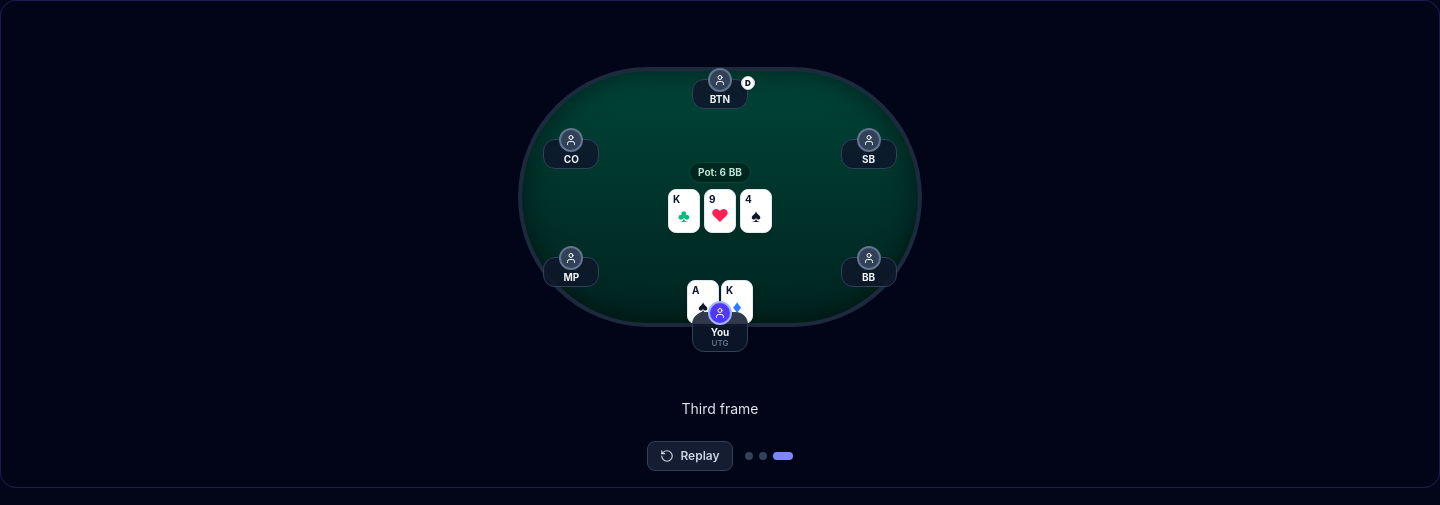
Test: TableSequence › stops on the last frame and offers a replay
This screenshot has width=1440, height=505.
Expected: the text "Third frame" is shown, [682, 400, 758, 417]
Click the button "Replay": (690, 456) [647, 441, 733, 471]
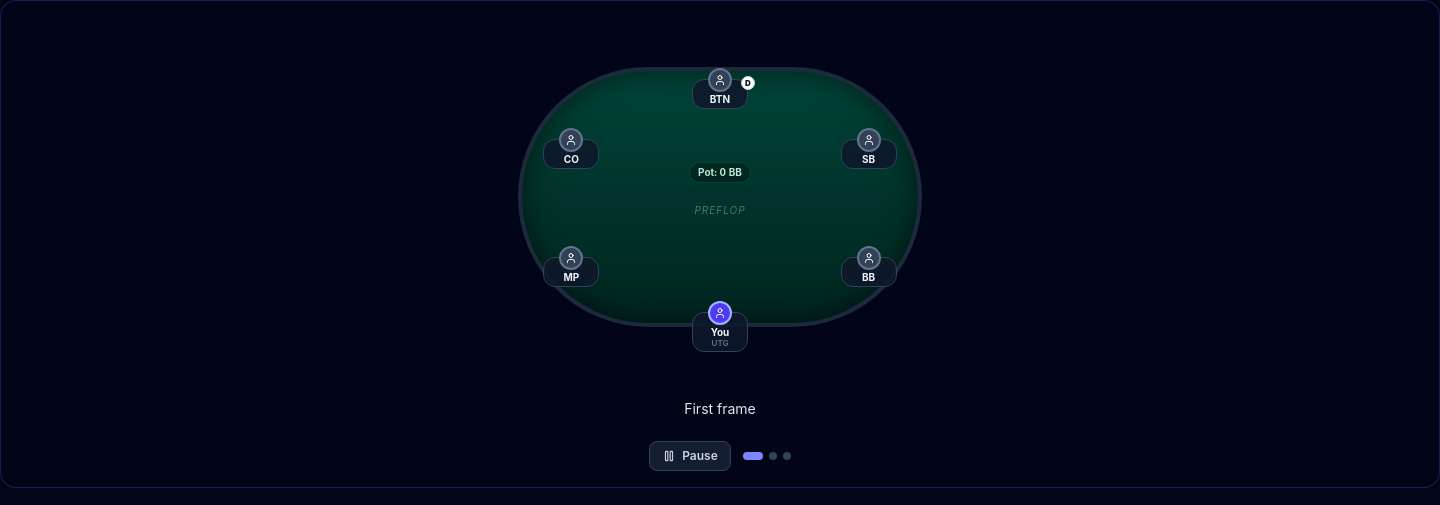
Result: the text "First frame" is shown at [684, 400, 756, 417]
